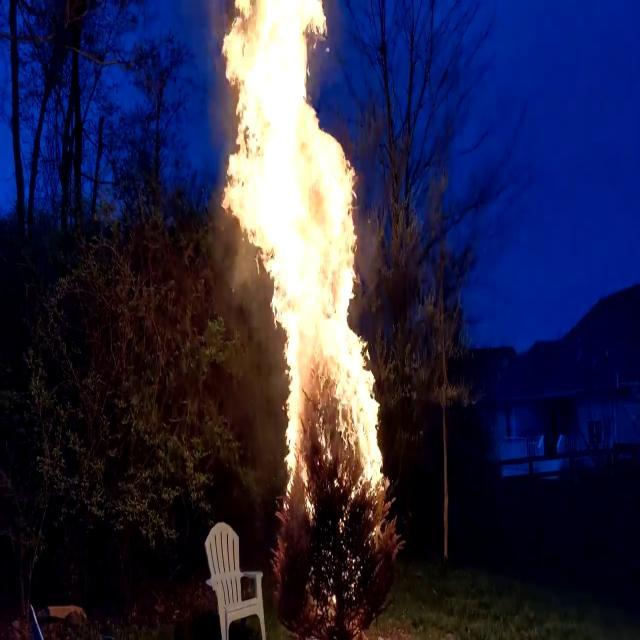Fire: (199, 0, 390, 509)
